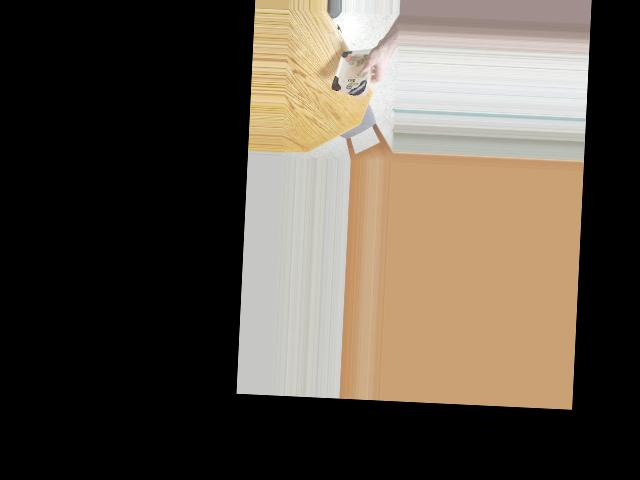cheese: (334, 41, 372, 99)
